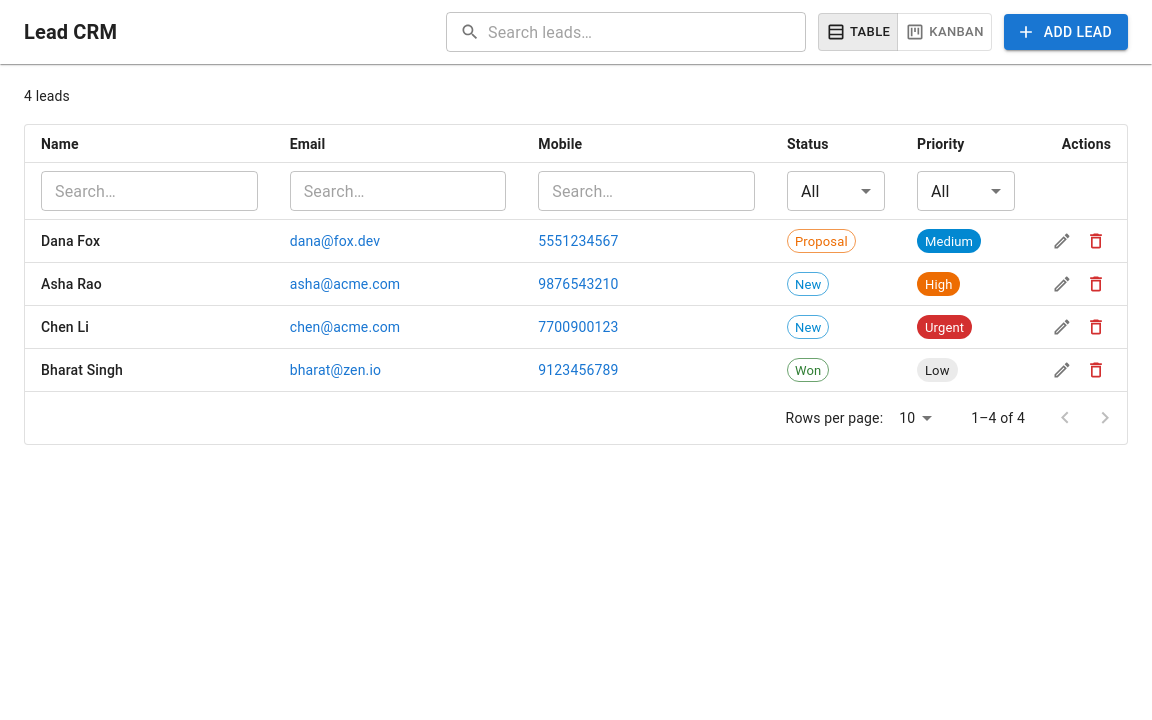
Test: App › keeps the form open with the duplicate error
The image size is (1152, 720).
What coordinates should you click on to do the following:
click the button named "Edit Asha Rao"
I would click on:
 (1062, 284)
Its box is [1047,269,1077,299].
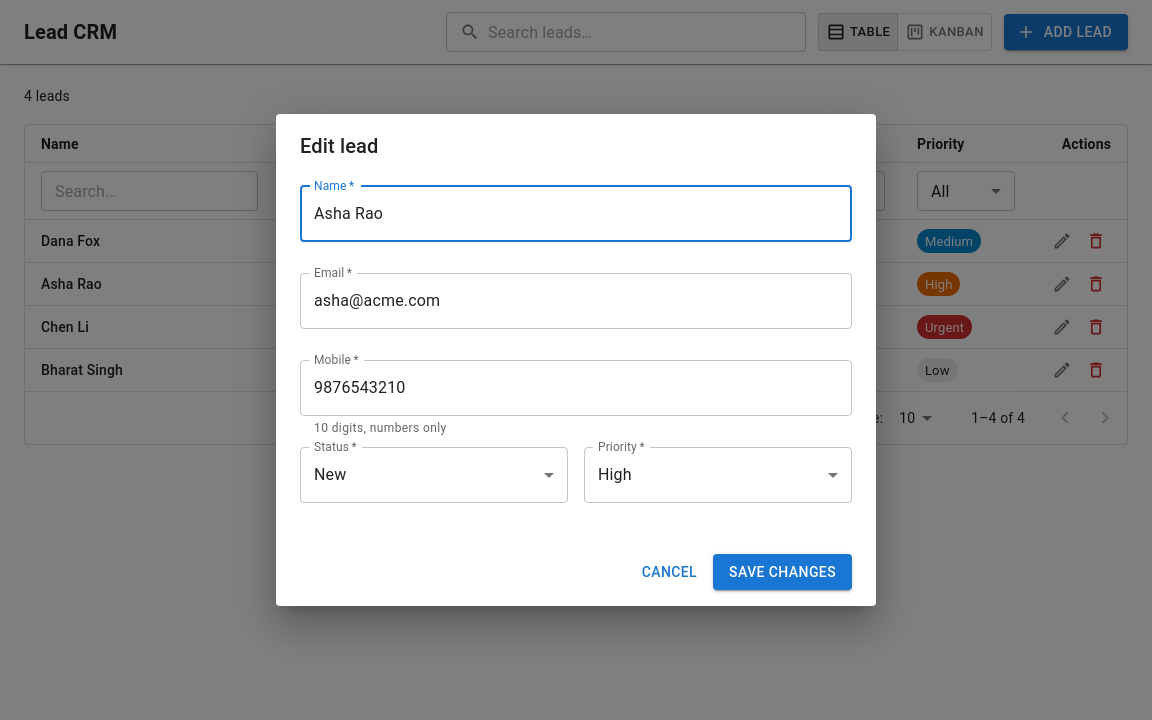
What coordinates should you click on to do the following:
click the button "Save changes"
I would click on:
 (783, 572)
Its box is [713,554,852,590].
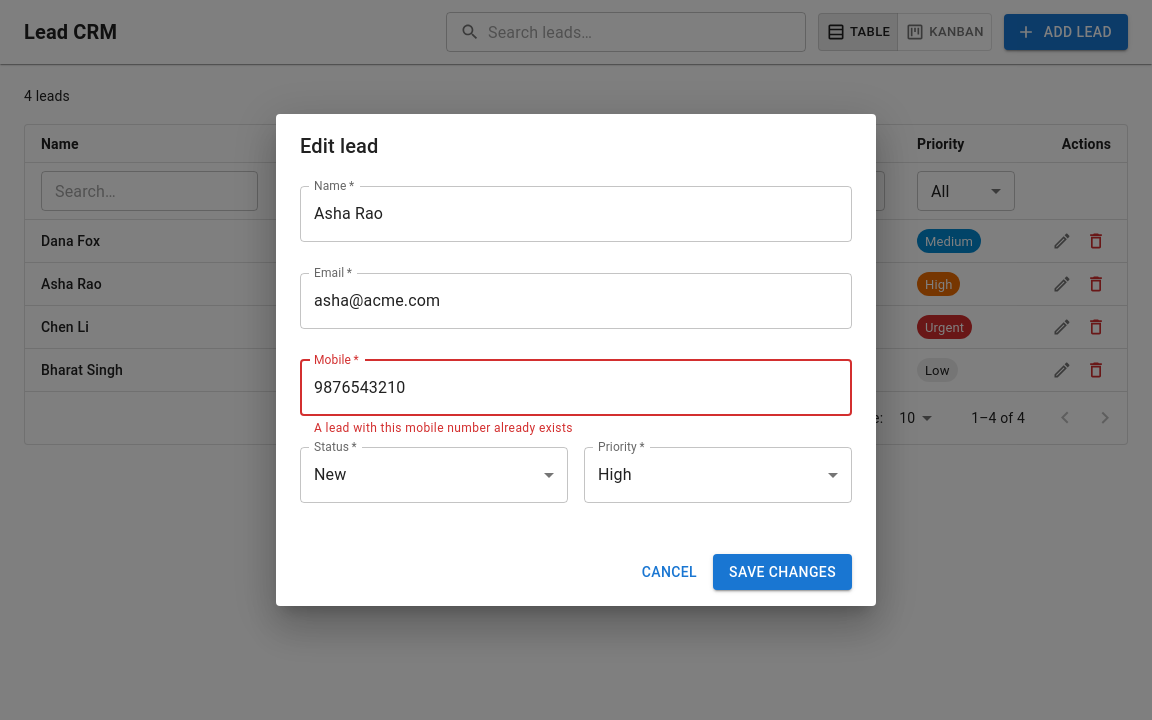
Expected: the dialog is shown, [276,114,876,606]
Expected: the text "A lead with this mobile number already exists" is shown, [314,421,573,435]
